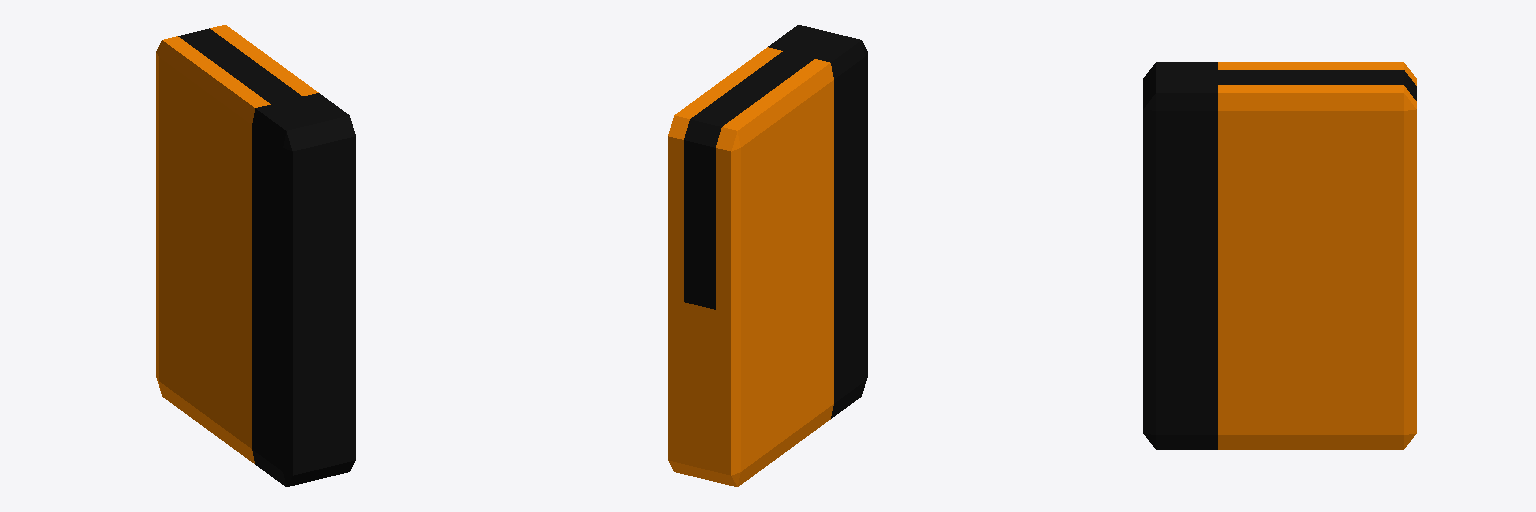
The model's file is Walkman_Body.obj.
3 views of the same model, side by side, from view 1: azimuth 30°, elevation 25°; view 2: azimuth 150°, elevation 25°; view 3: azimuth 270°, elevation 25° (orthographic).
Visible parts, largest first — view 1: Walkman_Body_Cube.010; view 2: Walkman_Body_Cube.010; view 3: Walkman_Body_Cube.010.
Part boxes in pixels (x1,y1,x2,y2): Walkman_Body_Cube.010: (156,25,355,486); Walkman_Body_Cube.010: (668,25,867,486); Walkman_Body_Cube.010: (1143,62,1416,449).
Size of the model in its own units: 0.9134 by 4.46 by 3.09.